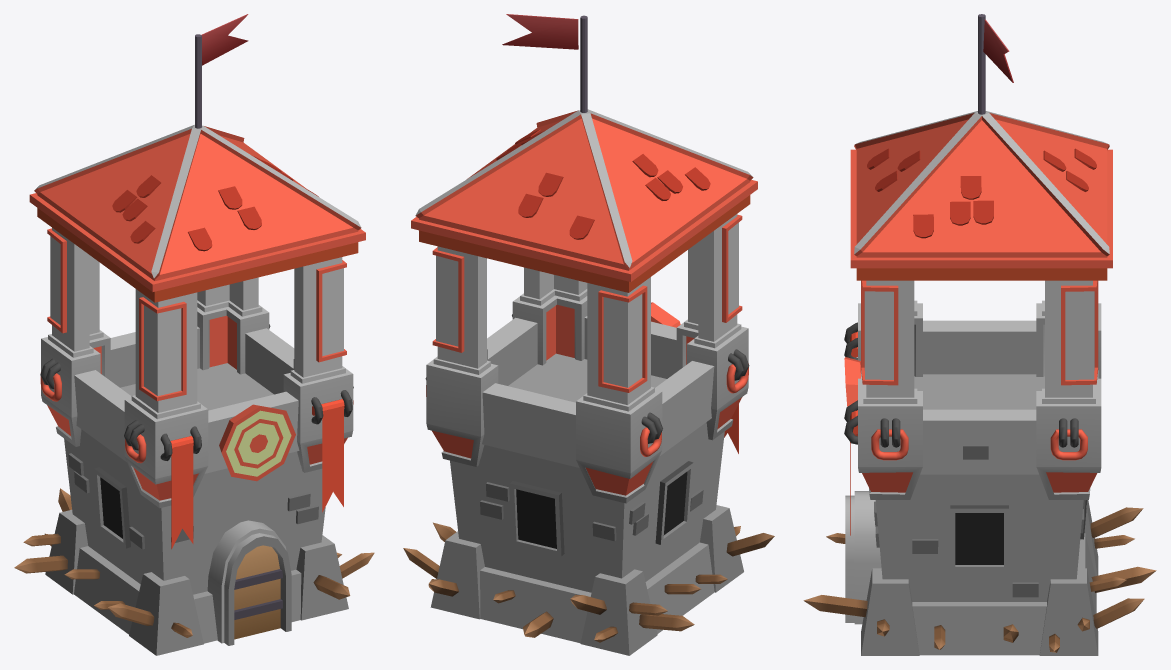
File: Archer Tower Lv4.fbx
3 views of the same model, side by side, from view 1: azimuth 30°, elevation 25°; view 2: azimuth 150°, elevation 25°; view 3: azimuth 270°, elevation 25° (orthographic). The views are drawn at different scales.
Parts seen in each view (by area): view 1: Archer Tower Lv 4, Flag Lv4; view 2: Archer Tower Lv 4, Flag Lv4; view 3: Archer Tower Lv 4, Flag Lv4.
Boxes of the visible parts, bbox=[...] form: Archer Tower Lv 4: bbox=[14, 34, 374, 655]; Flag Lv4: bbox=[201, 14, 248, 65]; Archer Tower Lv 4: bbox=[403, 15, 774, 655]; Flag Lv4: bbox=[502, 14, 578, 49]; Archer Tower Lv 4: bbox=[803, 14, 1156, 655]; Flag Lv4: bbox=[983, 19, 1013, 82].
Size of the model in its own units: 1174 by 2232 by 1208.
